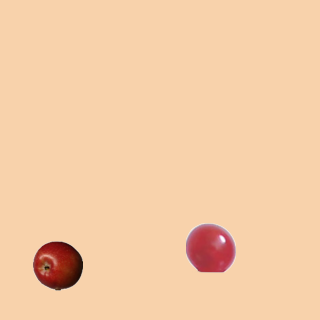Apple Braeburn: (32, 240, 82, 290)
Redcurrant: (185, 222, 235, 272)
